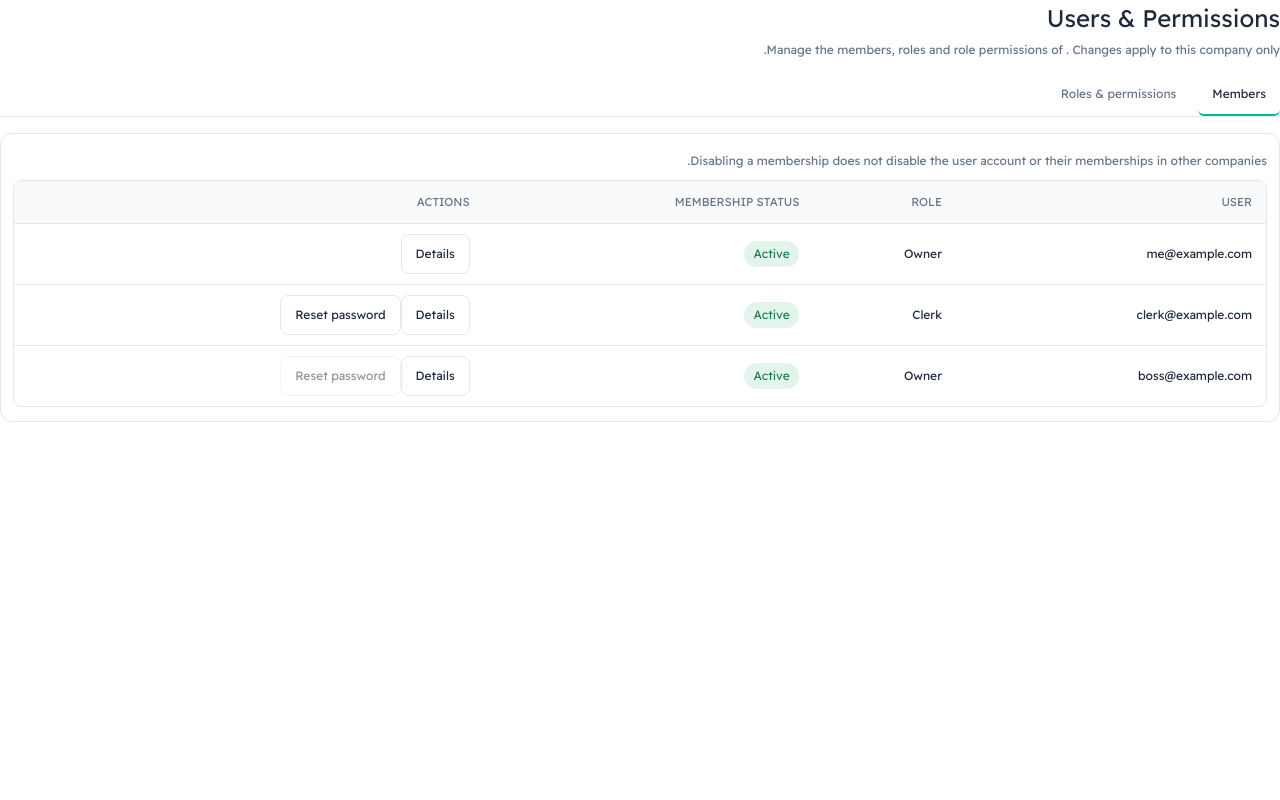
Scenario: administrative reset in Users & Permissions › confirms first, then shows the temporary password once and forgets it on close
The image size is (1280, 800).
Click the button "Reset password" in the row of "clerk@example.com": (340, 315) top-left (280, 295), bottom-right (401, 335)
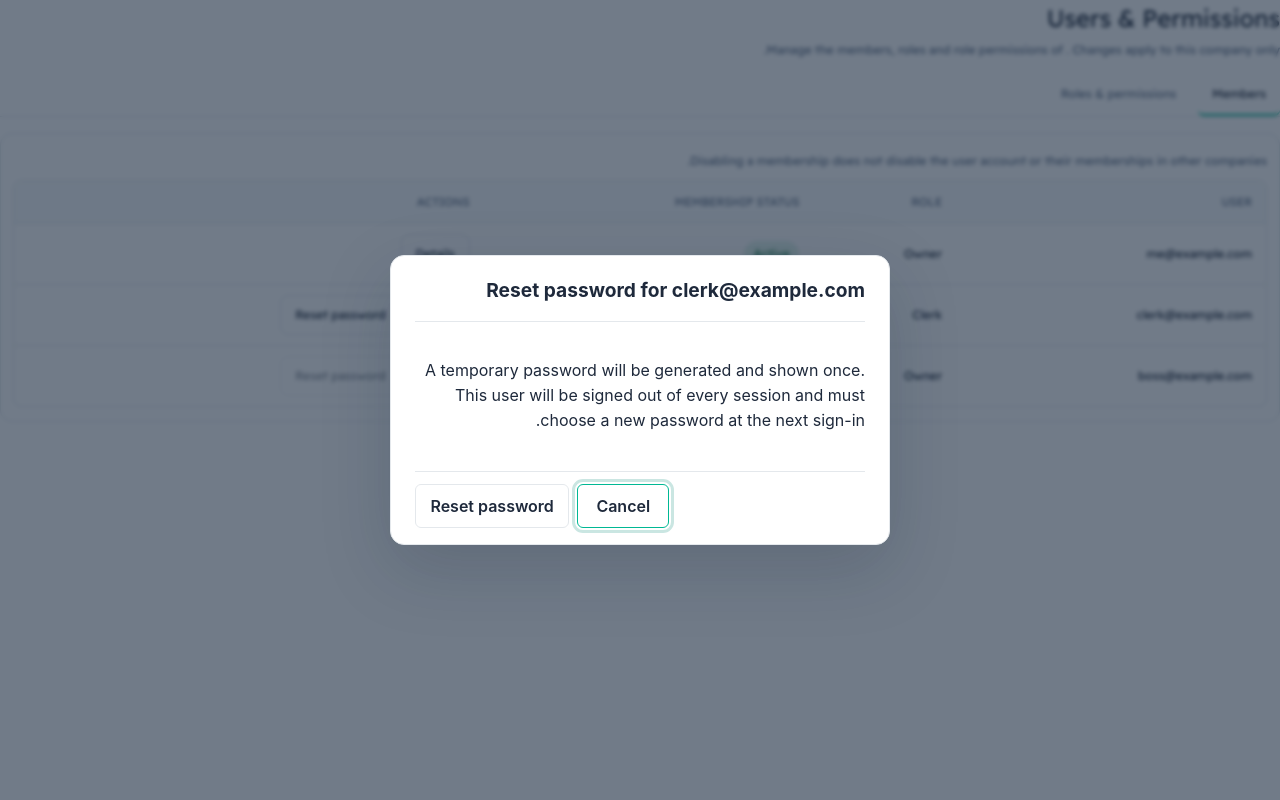
Click the button "Reset password": (492, 506) top-left (415, 484), bottom-right (569, 528)
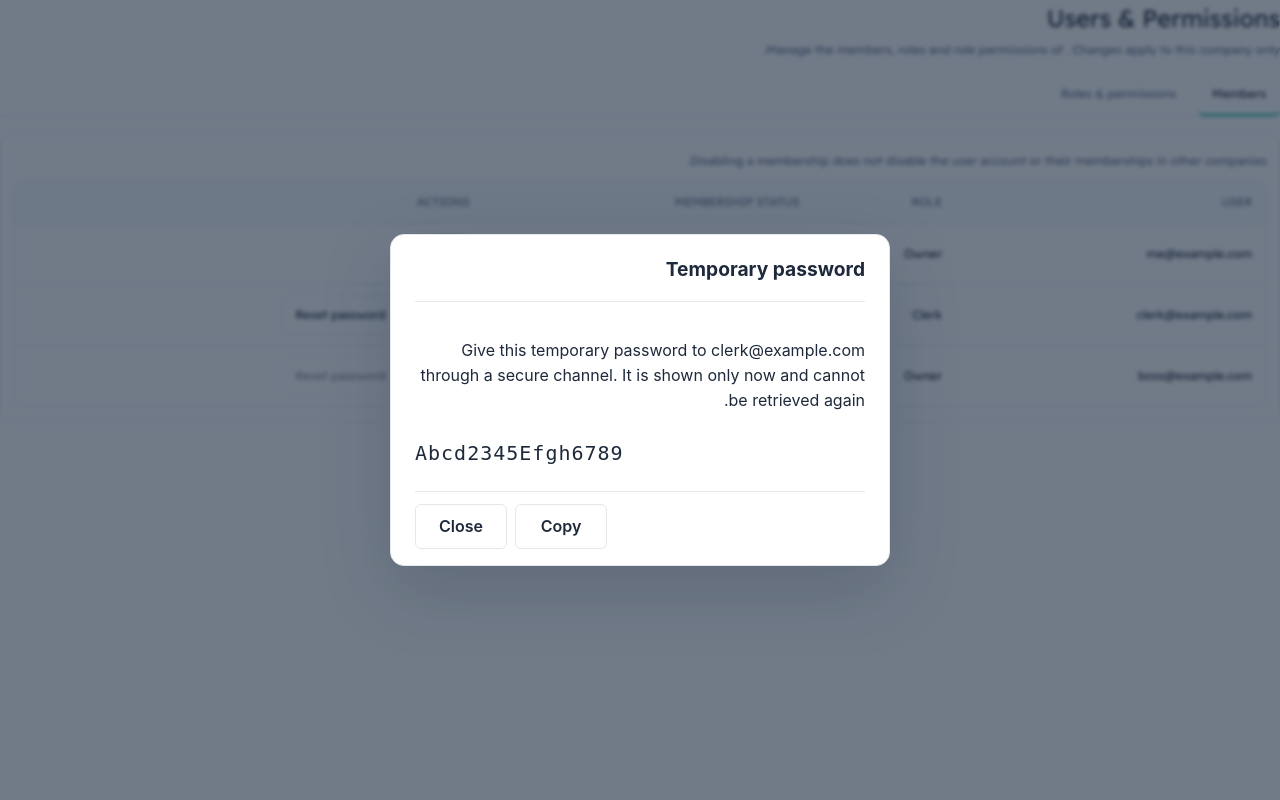
Check: the text with test id "temporary-password" reads "Abcd2345Efgh6789", box top-left (415, 441), bottom-right (624, 465)
Click the button "Close": (461, 527) top-left (415, 504), bottom-right (507, 549)
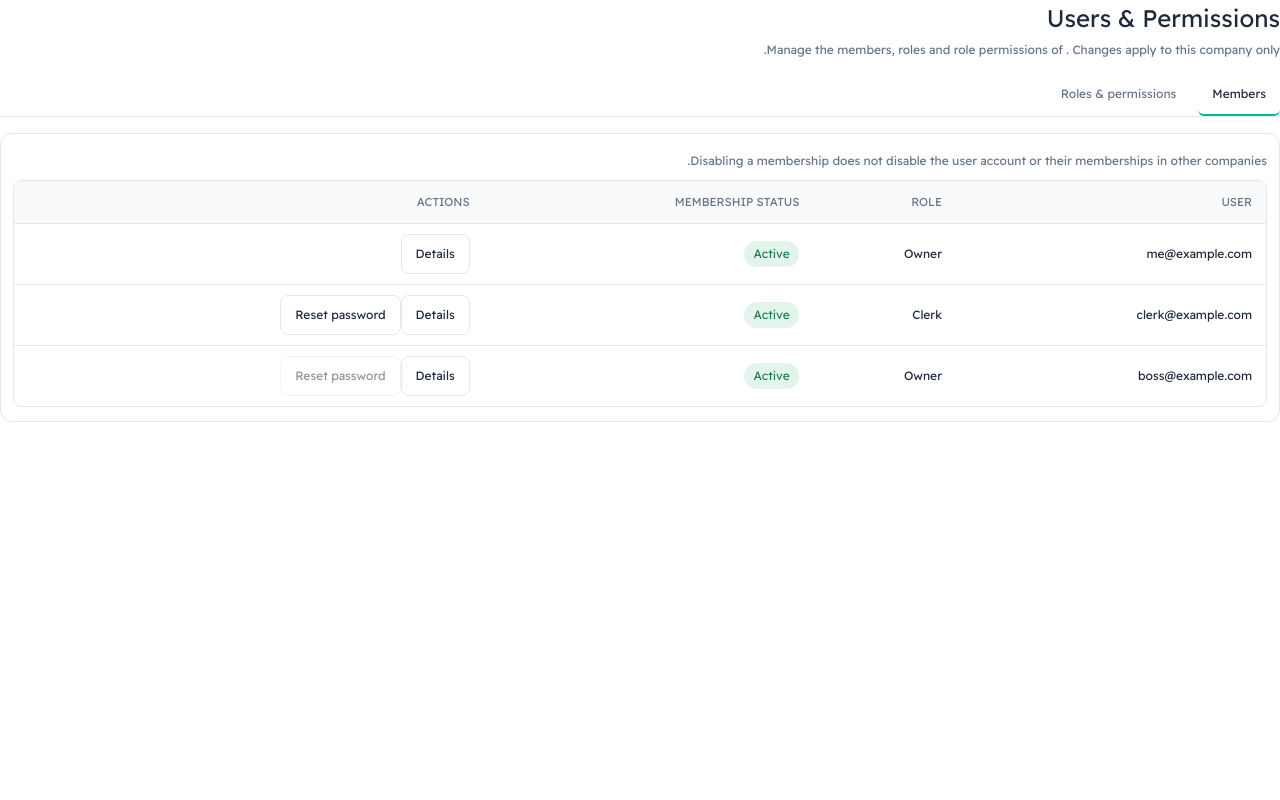
Check: the text with test id "temporary-password" is gone
Check: the text "Abcd2345Efgh6789" is gone
